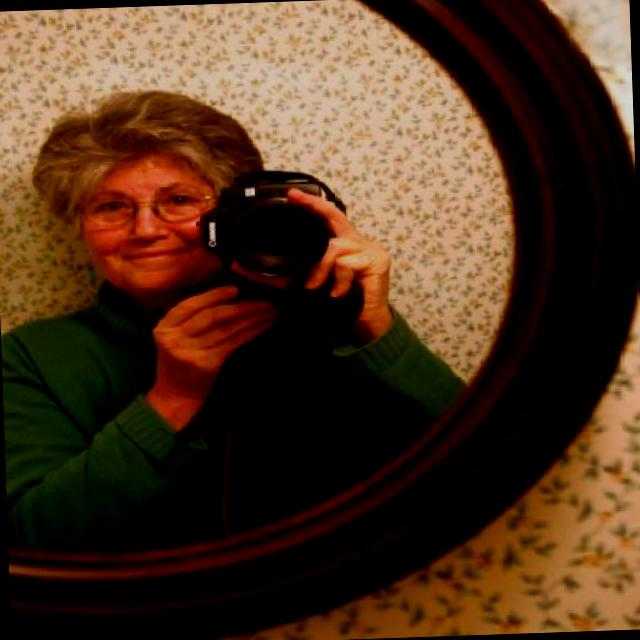Person: (48, 76, 568, 613)
